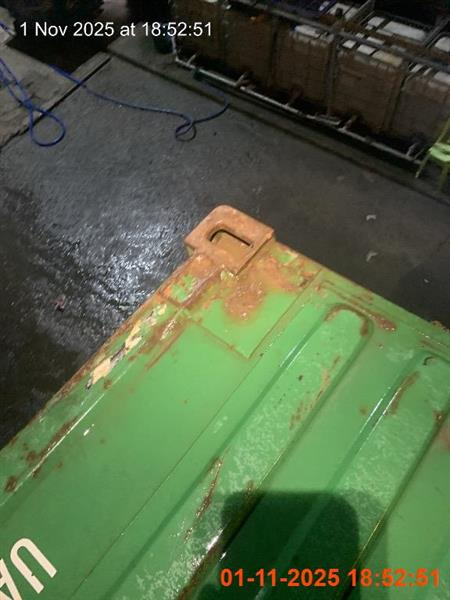hole: (1, 202, 449, 598)
